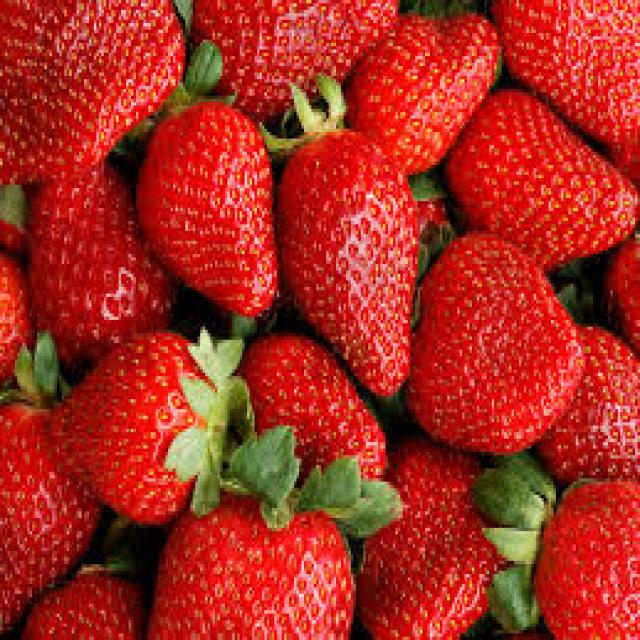Strawberries: (272, 136, 424, 401), (413, 250, 558, 469), (146, 105, 288, 316), (163, 495, 361, 640), (464, 91, 622, 266), (0, 0, 163, 162), (63, 349, 212, 519), (345, 483, 506, 640), (28, 180, 159, 361), (355, 14, 490, 172), (237, 358, 388, 496), (188, 0, 376, 106), (499, 0, 638, 139), (0, 421, 76, 613), (546, 488, 640, 637), (564, 317, 640, 490)
